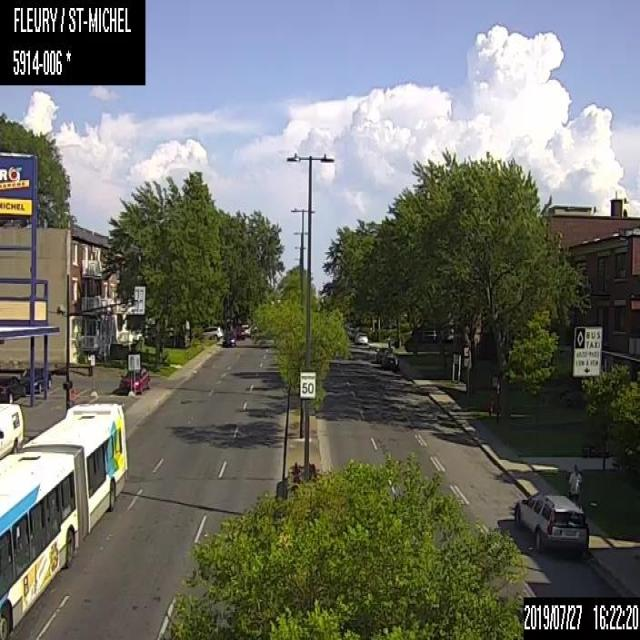bus: (0, 400, 127, 638)
pedestrian: (568, 460, 582, 504)
vehicle: (514, 488, 588, 552), (0, 401, 24, 460), (118, 366, 150, 394), (18, 366, 51, 393), (0, 374, 25, 402), (200, 325, 222, 343), (380, 351, 398, 368), (375, 346, 392, 363), (221, 330, 235, 346), (354, 332, 367, 344)
